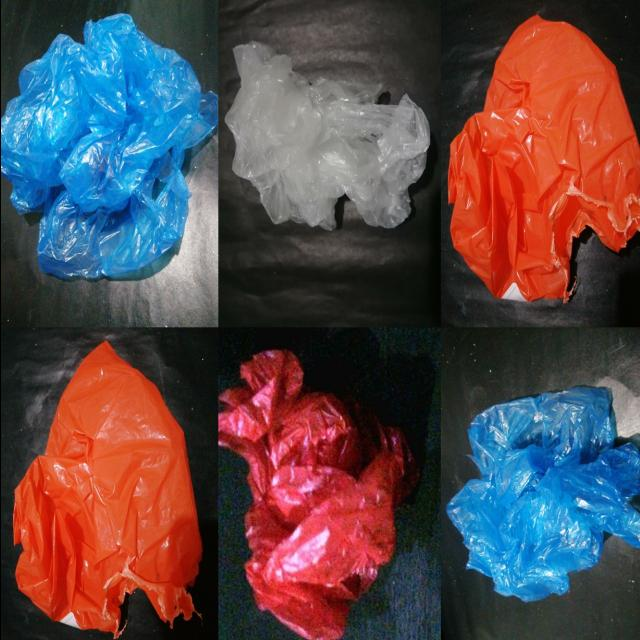plastik: (218, 349, 417, 640), (0, 14, 216, 279), (13, 343, 201, 637), (447, 16, 640, 301), (446, 387, 640, 601), (224, 42, 429, 230)
